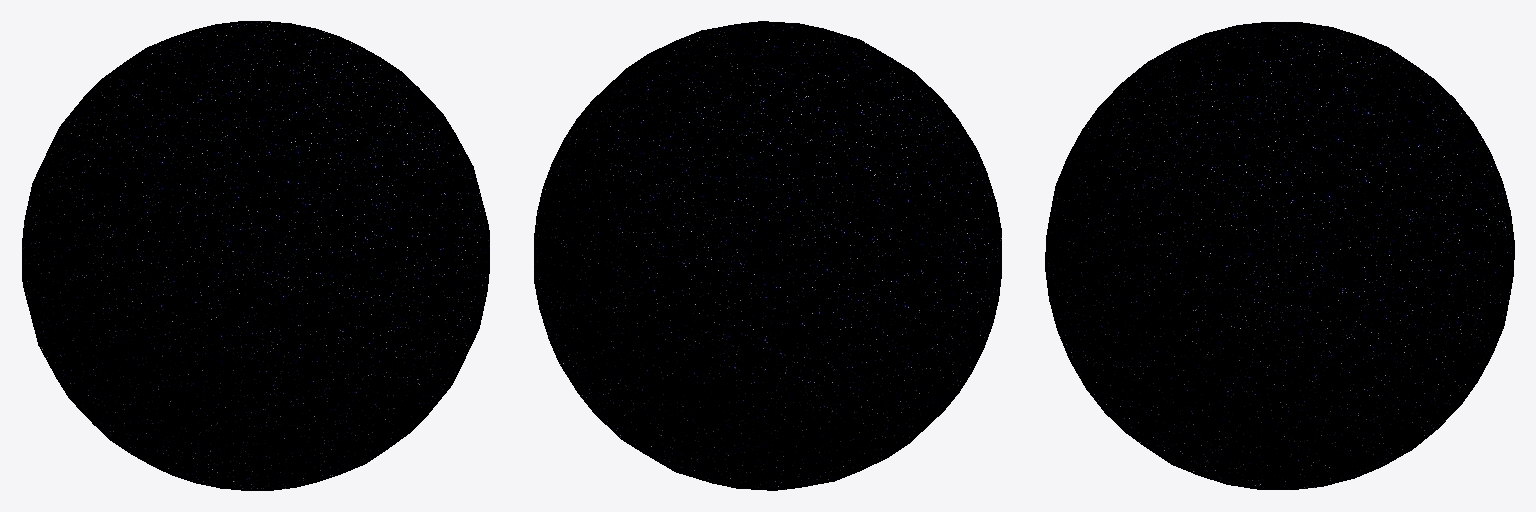
The picture shows the model from 3 angles: view 1: azimuth 30°, elevation 25°; view 2: azimuth 150°, elevation 25°; view 3: azimuth 270°, elevation 25°; orthographic projection.
Parts seen in each view (by area): view 1: polygon0; view 2: polygon0; view 3: polygon0.
Boxes of the visible parts, x1=… form: polygon0: x1=22, y1=21, x2=489, y2=490; polygon0: x1=534, y1=21, x2=1001, y2=490; polygon0: x1=1045, y1=22, x2=1514, y2=489.
Bounding box in the file's own units: 48788 × 48946 × 48893.
Materials: 6 (5 with a texture image).